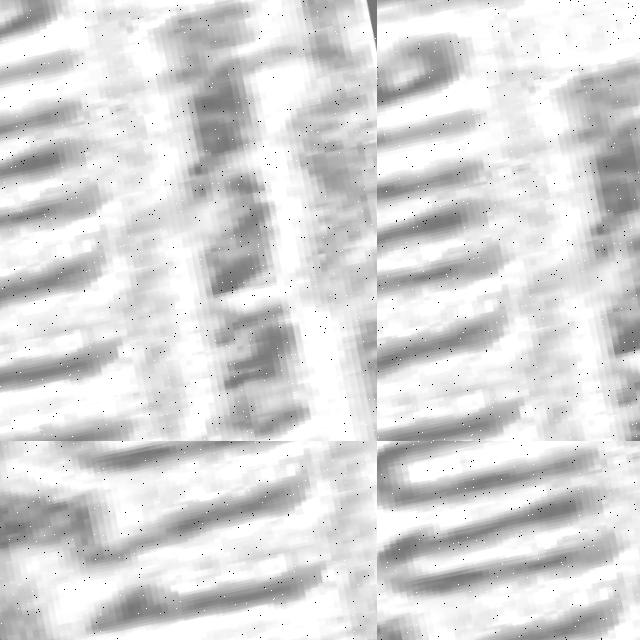license-plate: (0, 0, 248, 441), (377, 441, 640, 640), (0, 441, 340, 542)
